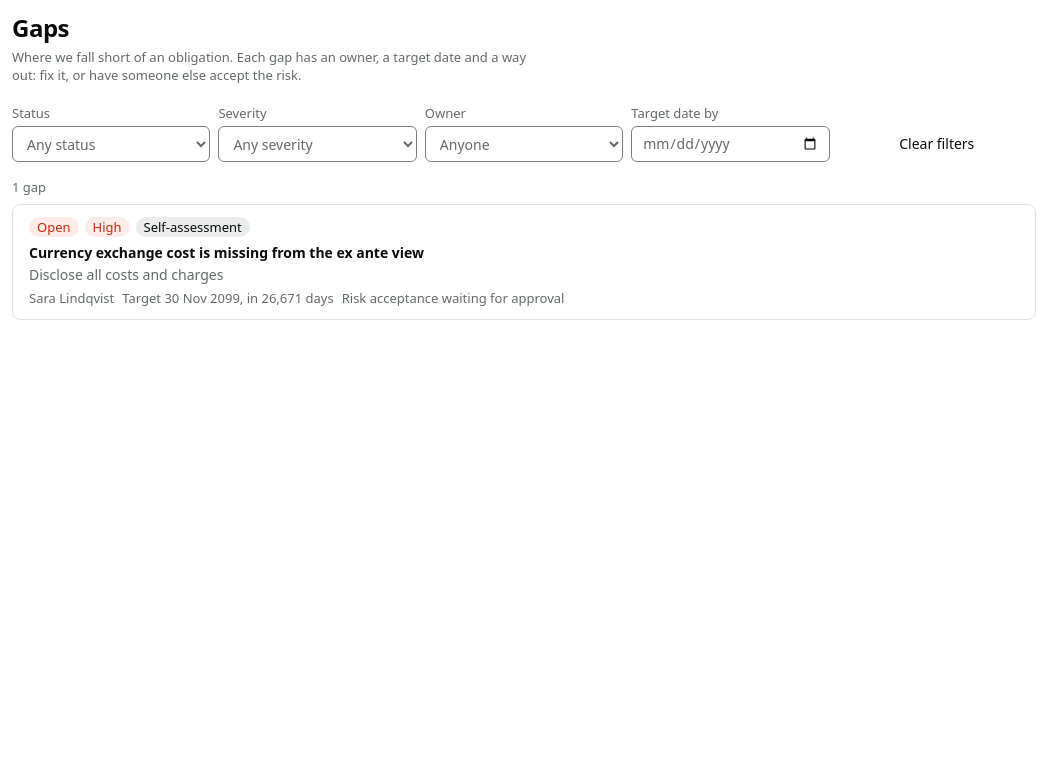
the way out › shows the requester the waiting acceptance and no Approve
The width and height of the screenshot is (1048, 780).
Check: the text "Risk acceptance waiting for approval" is shown, box left=342, top=289, right=564, bottom=307
Click the button "Currency exchange cost is missing from the ex ante view" at {"x": 227, "y": 253}, box left=29, top=243, right=424, bottom=263
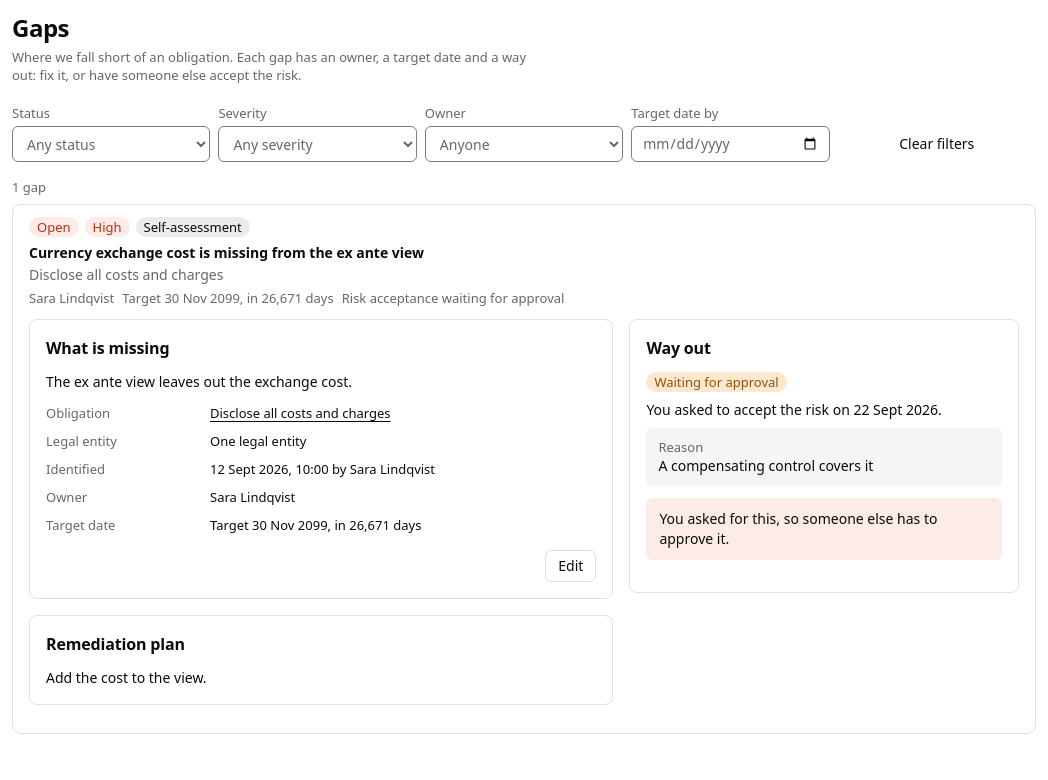
Check: the element that starts with "What is missing" is shown, box left=29, top=319, right=1019, bottom=721
Check: the text "You asked for this, so someone else has to approve it." is shown, box left=646, top=498, right=1002, bottom=560
Check: the text "A compensating control covers it" is shown, box left=658, top=456, right=873, bottom=475
